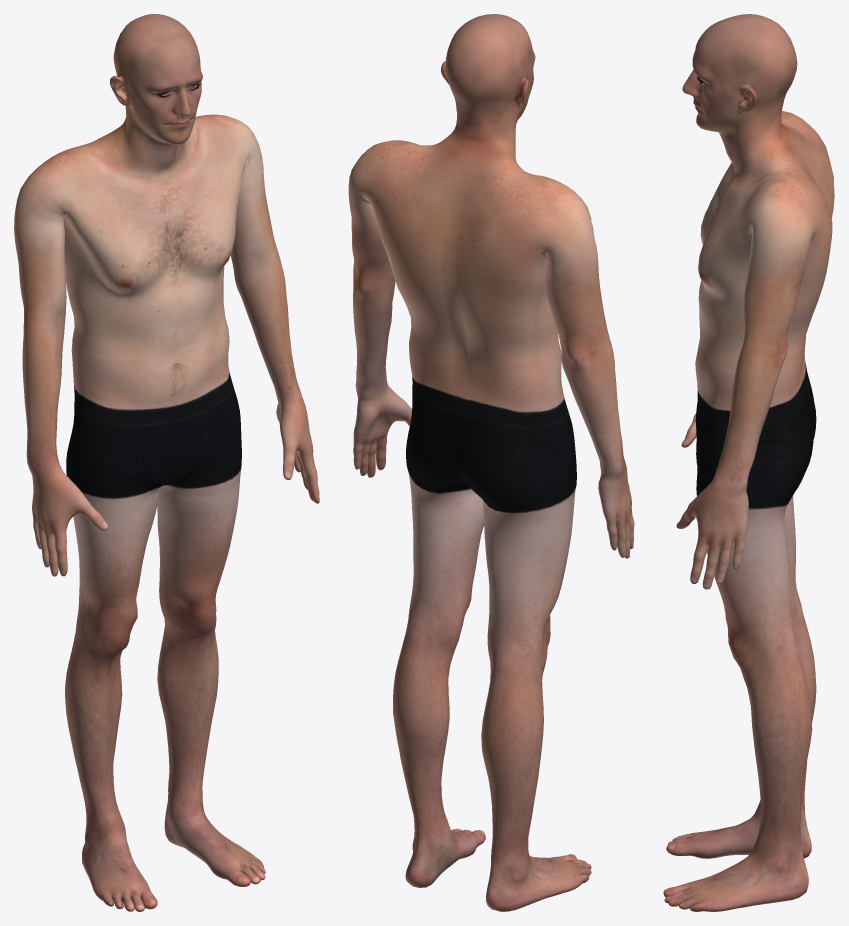
Rendered from WhiteMale1.obj.
The picture shows the model from 3 angles, left to right: view 1: azimuth 30°, elevation 25°; view 2: azimuth 150°, elevation 25°; view 3: azimuth 270°, elevation 25°; orthographic projection.
Parts seen in each view (by area): view 1: Body; view 2: Body; view 3: Body.
Part boxes in pixels (bbox=[...]): Body: bbox=[14, 14, 319, 911]; Body: bbox=[348, 14, 634, 911]; Body: bbox=[663, 14, 834, 911].
Size of the model in its own units: 61.35 by 185 by 33.42.
Materials: 1 (1 with a texture image).
